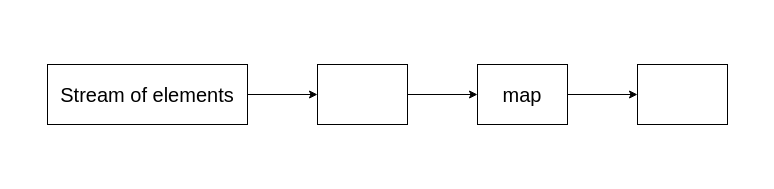
The diagram is 774 pixels wide and 189 high, and some of its shapes have lost their labels. Each missing label, with the centre of its shape:
"collect" goes at (x=682, y=94).
"filter" goes at (x=362, y=94).
